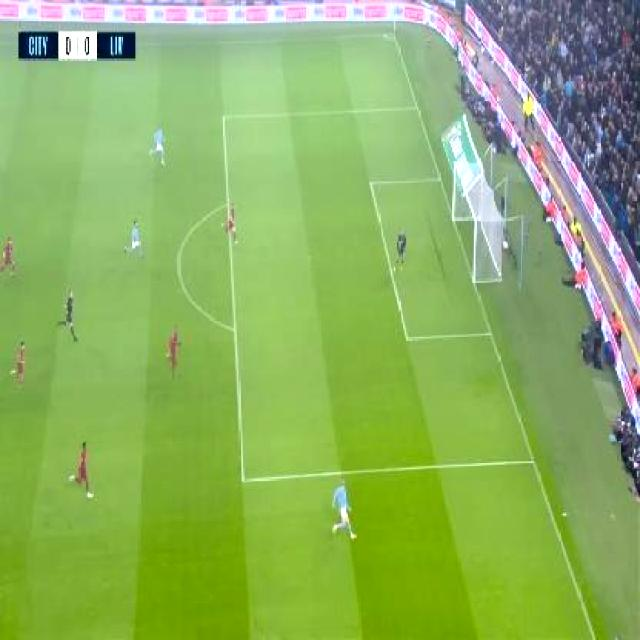bigarea_bottom_inner: (232, 468, 255, 492)
bigarea_bottom_outter: (528, 454, 537, 466)
bigarea_top_inner: (218, 109, 228, 125)
bigarea_top_outter: (411, 101, 418, 112)
bottom_arc_area_intersection: (230, 323, 238, 337)
corner: (385, 31, 397, 38)
smallarea_bottom_inner: (402, 328, 412, 344)
smallarea_bottom_outter: (483, 325, 494, 340)
smallarea_top_inner: (366, 176, 376, 190)
smallarea_top_outter: (432, 170, 443, 184)
top_arc_area_intersection: (223, 198, 232, 210)
